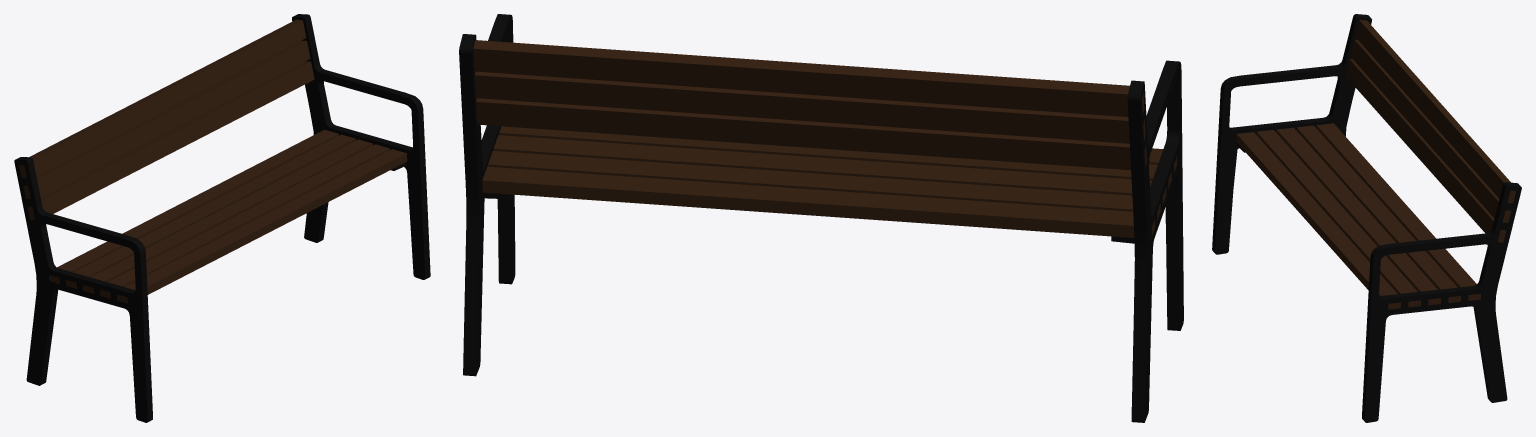
File: uploads_files_2267032_bench.FBX
The picture shows the model from 3 angles, left to right: view 1: azimuth 30°, elevation 25°; view 2: azimuth 150°, elevation 25°; view 3: azimuth 270°, elevation 25°; orthographic projection. The views are drawn at different scales.
Visible parts, largest first — view 1: Group001; view 2: Group001; view 3: Group001.
Boxes of the visible parts, bbox=[...] form: Group001: bbox=[14, 14, 430, 422]; Group001: bbox=[459, 14, 1183, 422]; Group001: bbox=[1212, 14, 1521, 422].
Bounding box in the file's own units: 2067 × 1055 × 1378.
